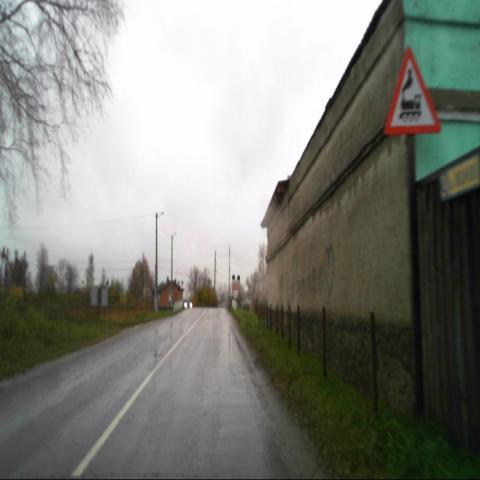1_2: (384, 44, 442, 136)
